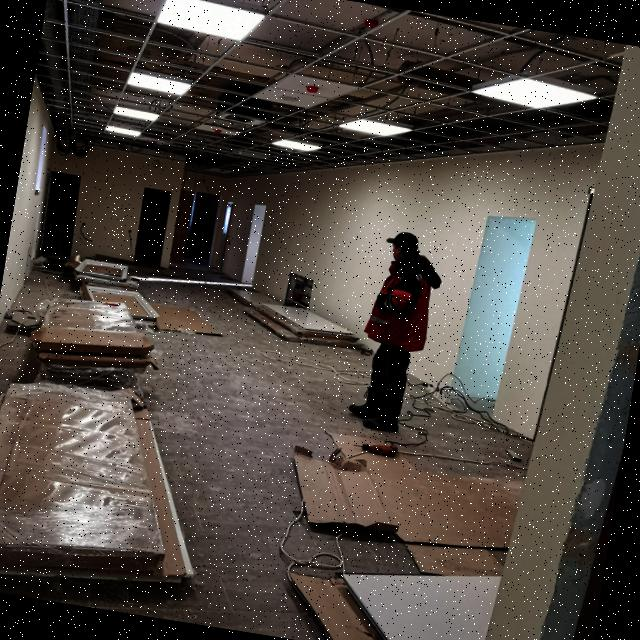NoHelmet: (384, 230, 423, 266)
